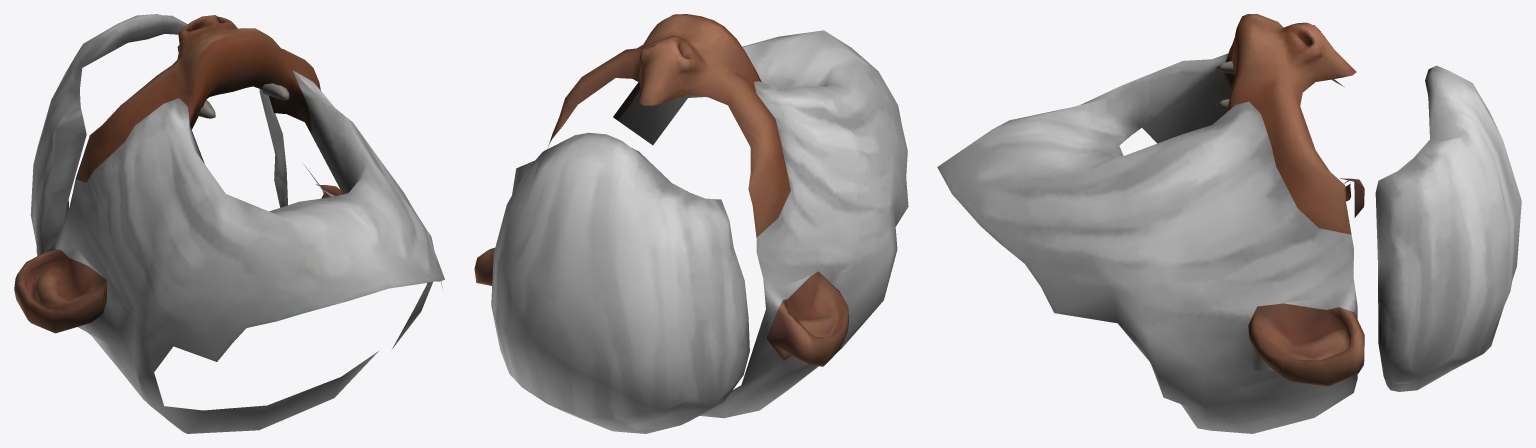
The picture shows the model from 3 angles, left to right: view 1: azimuth 30°, elevation 25°; view 2: azimuth 150°, elevation 25°; view 3: azimuth 270°, elevation 25°; orthographic projection.
Visible parts, largest first — view 1: body0_model0_lod0_mesh0; view 2: body0_model0_lod0_mesh0; view 3: body0_model0_lod0_mesh0.
Part boxes in pixels (bbox=[...]): body0_model0_lod0_mesh0: bbox=[14, 14, 444, 433]; body0_model0_lod0_mesh0: bbox=[474, 14, 908, 433]; body0_model0_lod0_mesh0: bbox=[937, 14, 1521, 433].
Size of the model in its own units: 10.12 by 10.91 by 14.63.
Materials: 1 (1 with a texture image).
